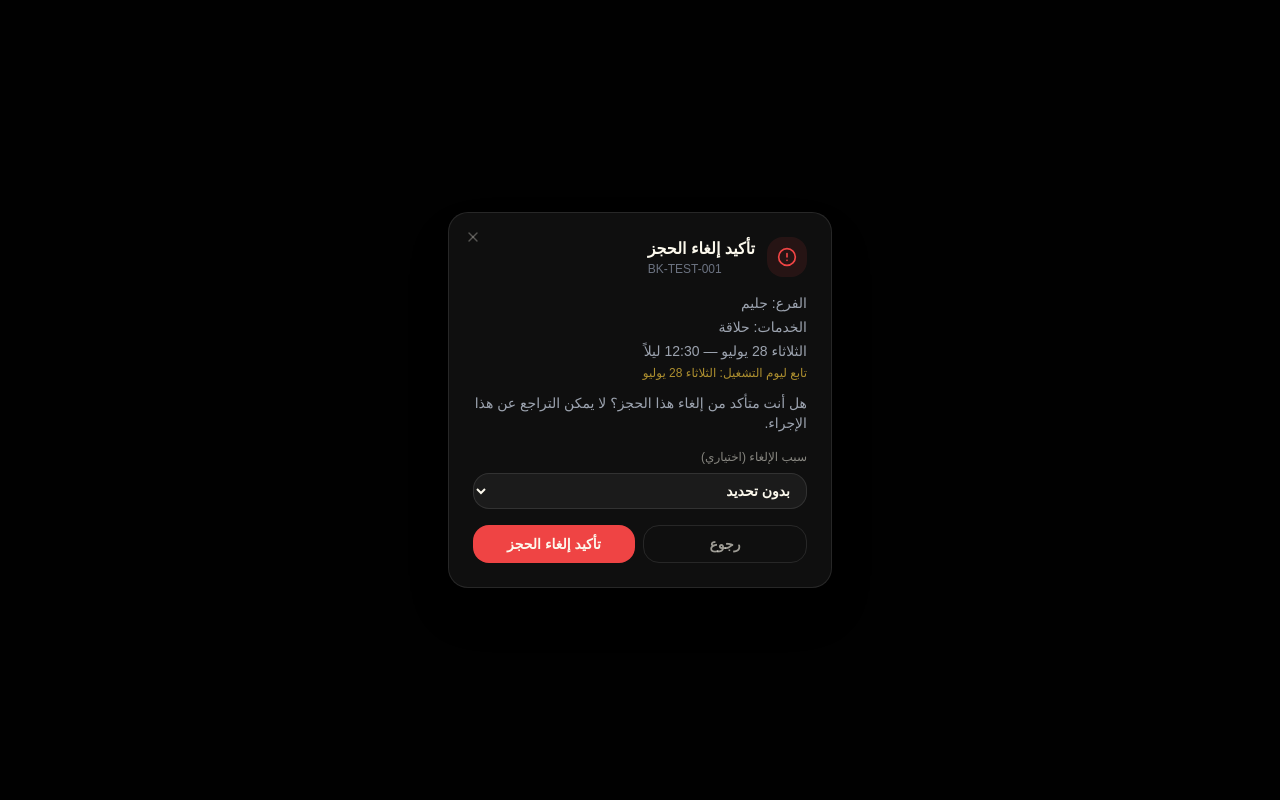
Test: BookingCancelIdempotency / Unknown / Policy › payment/staff required does not claim refund
Click the button "تأكيد إلغاء الحجز": (554, 544) top-left (473, 525), bottom-right (635, 563)
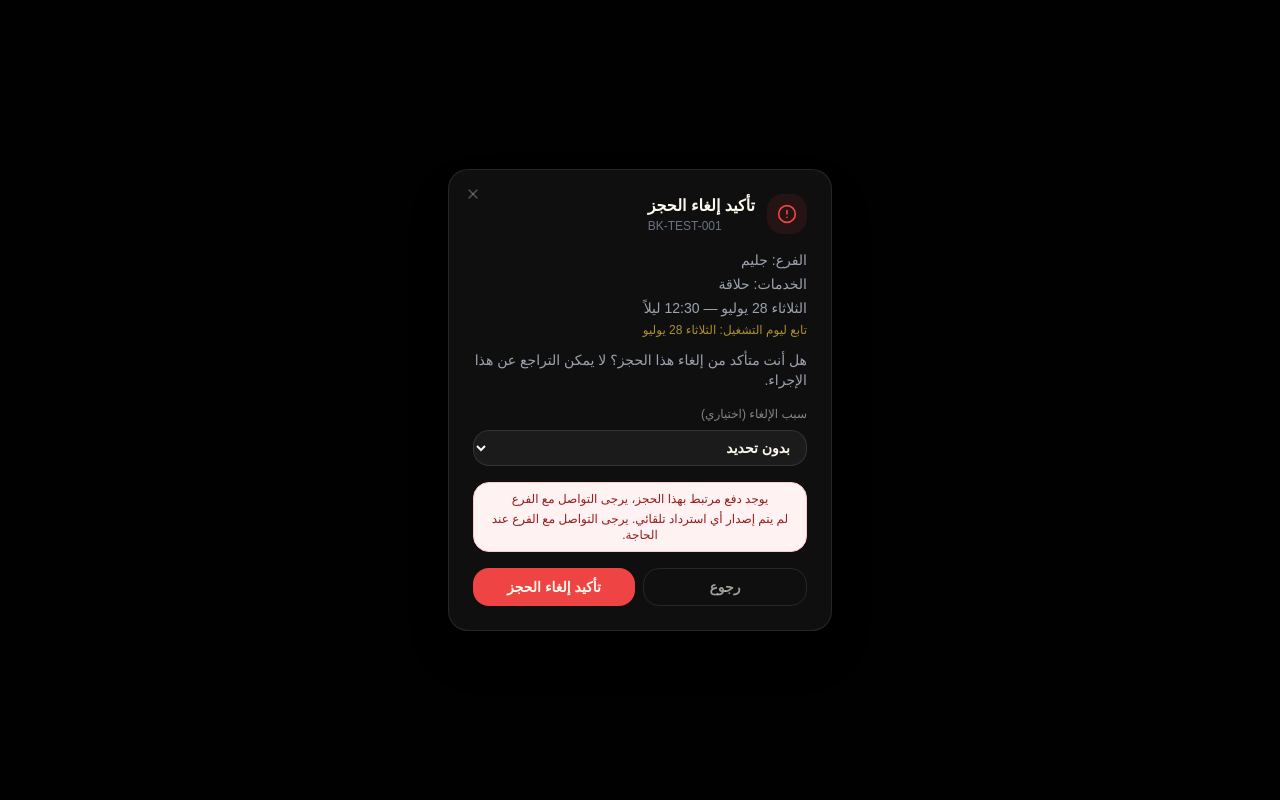
Check: the text "لم يتم إصدار أي استرداد تلقائي" is shown, box top-left (492, 512), bottom-right (788, 542)
